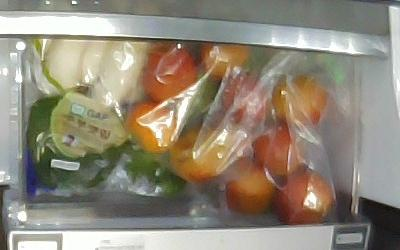prune_vinyl: (218, 74, 279, 137), (171, 129, 236, 183), (141, 47, 200, 104), (251, 123, 308, 182), (226, 161, 284, 218), (274, 171, 333, 225), (272, 76, 333, 126), (126, 103, 177, 153), (198, 42, 249, 80)
